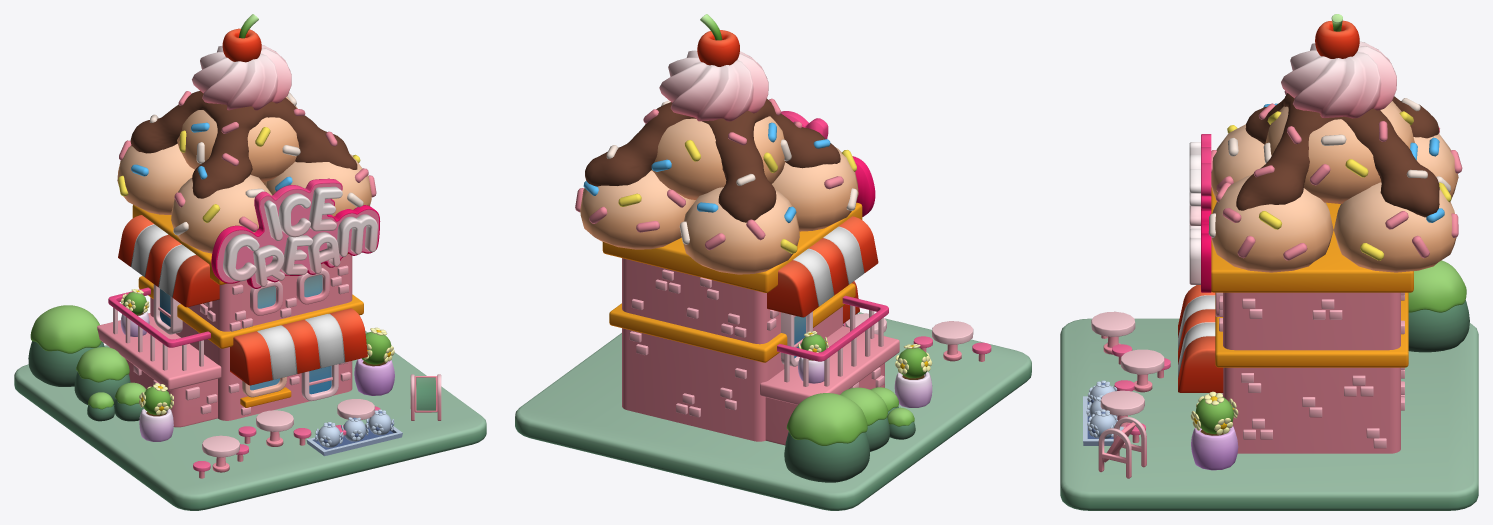
The model's file is icecream.glb.
3 renders of one model, left to right at view 1: azimuth 30°, elevation 25°; view 2: azimuth 150°, elevation 25°; view 3: azimuth 270°, elevation 25°, orthographic. The views are drawn at different scales.
Parts seen in each view (by area): view 1: IceCreaShop_7, Object_11; view 2: IceCreaShop_7; view 3: IceCreaShop_7, Object_11.
Boxes of the visible parts, x1,y1,x2,y2 form: IceCreaShop_7: [14, 14, 486, 510]; Object_11: [306, 409, 402, 456]; IceCreaShop_7: [515, 14, 1031, 510]; IceCreaShop_7: [1060, 14, 1478, 510]; Object_11: [1083, 380, 1123, 445].
Size of the model in its own units: 2 by 2.26 by 2.
2 materials, 2 textured.
